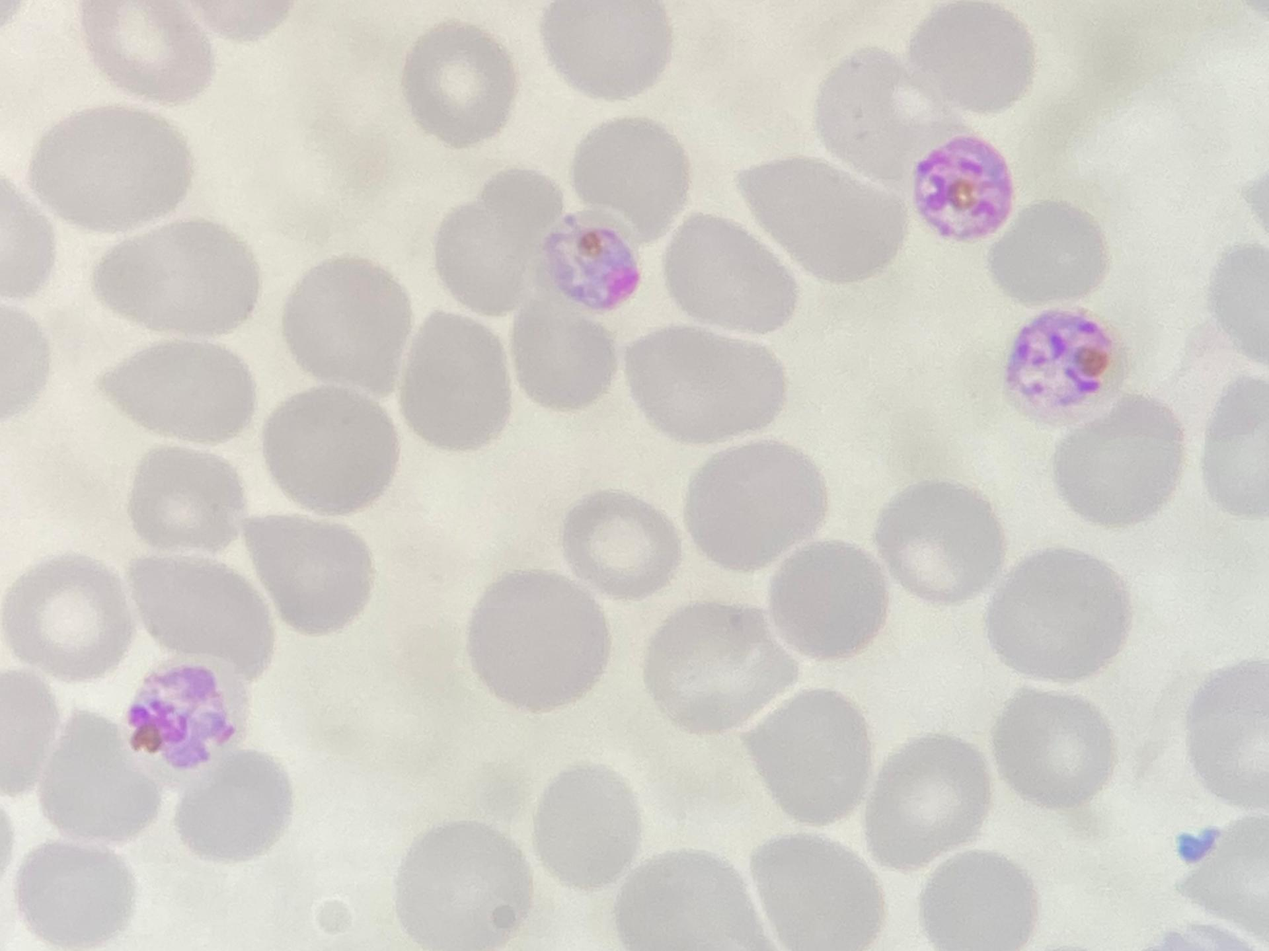Infected: (124, 650, 244, 773), (1006, 309, 1131, 422), (910, 136, 1017, 242), (540, 212, 646, 311)
Uninfected: (735, 157, 907, 282), (468, 569, 611, 714), (648, 600, 794, 739), (94, 220, 264, 339), (31, 106, 195, 228), (395, 817, 539, 951), (687, 443, 832, 575), (283, 256, 414, 401), (988, 549, 1131, 681), (633, 327, 788, 444), (739, 688, 869, 826), (864, 732, 993, 871), (269, 389, 403, 520), (1053, 400, 1186, 529), (134, 562, 274, 683), (41, 707, 165, 841), (664, 212, 796, 337), (245, 516, 379, 639), (876, 476, 1003, 603), (405, 309, 516, 454), (99, 339, 256, 439), (752, 833, 885, 951), (8, 549, 124, 682), (620, 846, 765, 951), (909, 0, 1038, 117), (770, 536, 885, 665), (818, 47, 930, 179), (431, 197, 544, 325), (995, 688, 1117, 806), (535, 760, 643, 890), (575, 121, 697, 236), (81, 0, 218, 102), (406, 22, 519, 143), (544, 0, 673, 102), (1185, 656, 1269, 810), (129, 445, 248, 553), (177, 749, 296, 857), (924, 848, 1041, 951), (572, 489, 681, 599), (18, 843, 129, 951), (509, 308, 621, 411)
